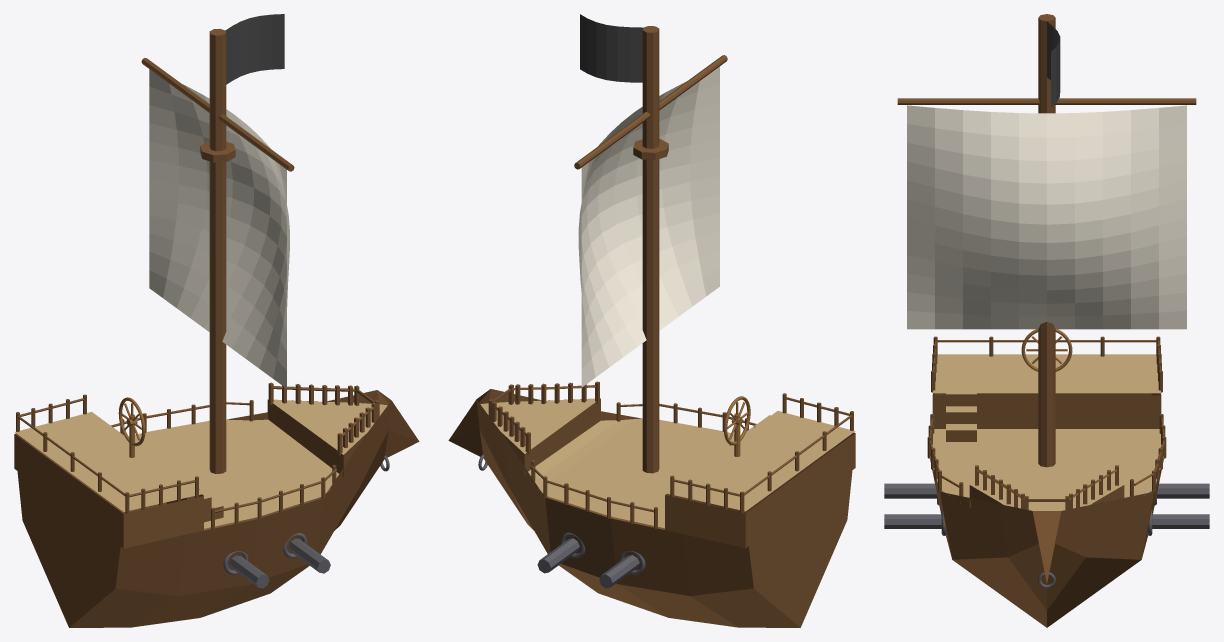
The model's file is grotto_ship.fbx.
The picture shows the model from 3 angles, left to right: view 1: azimuth 30°, elevation 25°; view 2: azimuth 150°, elevation 25°; view 3: azimuth 270°, elevation 25°; orthographic projection.
Visible parts, largest first — view 1: Hull_M_Hull, Sail, Deck_Main, Deck_Stern, Mast, Sterncastle, Flag_Main, Deck_Bow, FC_AftWall, Yard, Cannon_Barrel_S_0, Cannon_Barrel_S_1; view 2: Hull_M_Hull, Sail, Deck_Main, Deck_Stern, Mast, Sterncastle, Flag_Main, Deck_Bow, FC_AftWall, Yard, Cannon_Barrel_P_0, Cannon_Barrel_P_1; view 3: Sail, Hull_M_Hull, Deck_Main, Deck_Stern, SC_FwdWall, Mast, Yard, Deck_Bow, Stairs_Starboard_M_Hull, Flag_Main, Cannon_Barrel_P_0, Cannon_Barrel_S_0 (+3 smaller).
Part boxes in pixels (<box>): Hull_M_Hull: <box>14,390,419,627</box>; Sail: <box>149,69,289,388</box>; Deck_Main: <box>129,419,338,528</box>; Deck_Stern: <box>15,411,203,511</box>; Mast: <box>209,28,226,473</box>; Sterncastle: <box>14,433,203,548</box>; Flag_Main: <box>225,14,284,84</box>; Deck_Bow: <box>268,399,387,454</box>; FC_AftWall: <box>267,400,343,476</box>; Yard: <box>141,58,294,171</box>; Cannon_Barrel_S_0: <box>288,538,330,573</box>; Cannon_Barrel_S_1: <box>229,555,269,588</box>; Hull_M_Hull: <box>448,389,855,627</box>; Sail: <box>578,66,719,387</box>; Deck_Main: <box>528,418,734,528</box>; Deck_Stern: <box>665,411,855,511</box>; Mast: <box>642,26,659,473</box>; Sterncastle: <box>665,432,855,548</box>; Flag_Main: <box>580,14,643,82</box>; Deck_Bow: <box>480,398,600,453</box>; FC_AftWall: <box>524,398,600,475</box>; Yard: <box>574,55,727,169</box>; Cannon_Barrel_P_0: <box>537,538,579,573</box>; Cannon_Barrel_P_1: <box>599,555,639,588</box>; Sail: <box>907,105,1186,329</box>; Hull_M_Hull: <box>930,393,1163,627</box>; Deck_Main: <box>930,429,1163,497</box>; Deck_Stern: <box>932,354,1161,393</box>; SC_FwdWall: <box>932,395,1161,428</box>; Mast: <box>1038,14,1055,467</box>; Yard: <box>897,98,1196,104</box>; Deck_Bow: <box>970,485,1123,510</box>; Stairs_Starboard_M_Hull: <box>946,394,976,441</box>; Flag_Main: <box>1047,21,1060,107</box>; Cannon_Barrel_P_0: <box>1152,514,1209,528</box>; Cannon_Barrel_S_0: <box>884,514,941,528</box>.
Size of the model in its own units: 828 by 1312 by 654.
